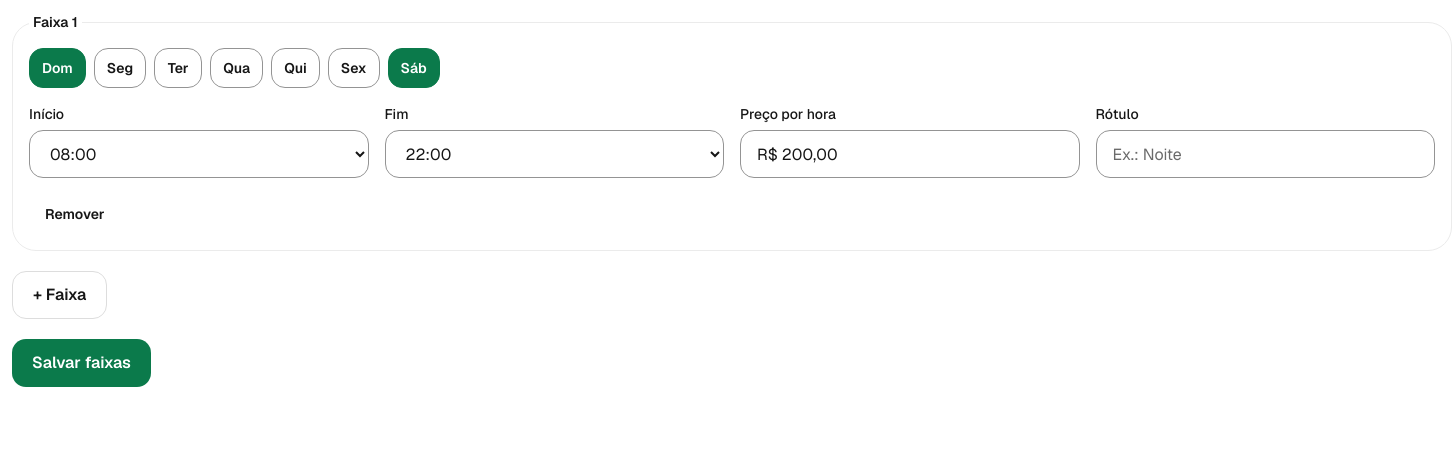
Test: PriceRulesEditor › shows the server message when it names no row
The width and height of the screenshot is (1452, 470).
Click the button "Salvar faixas" at (81, 363), box [12,339,151,387]
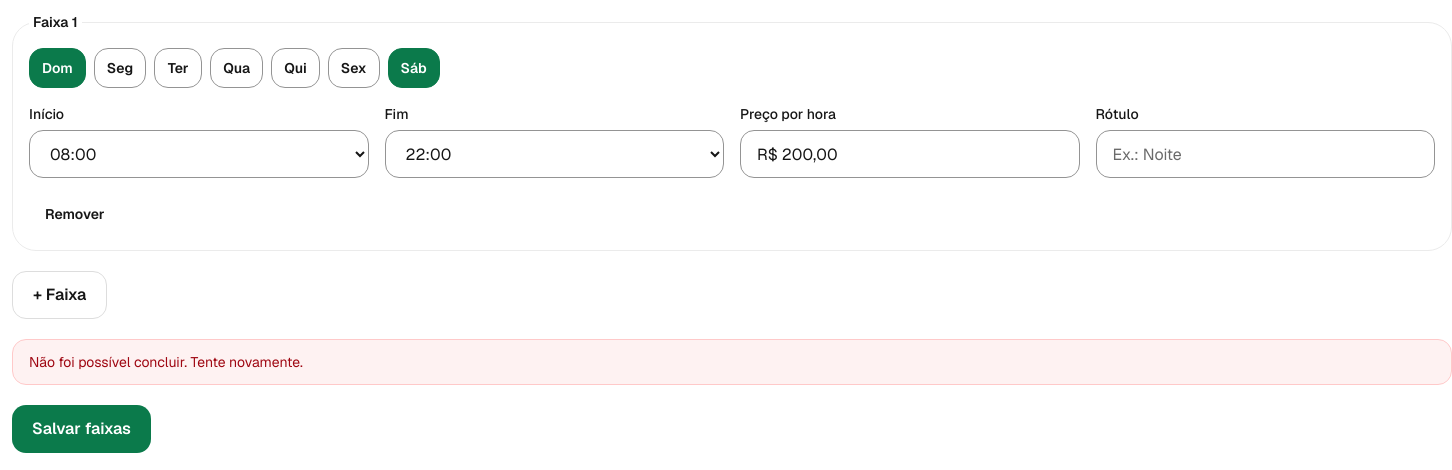
Result: the message reads "Não foi possível concluir. Tente novamente." at [29,353,303,371]
